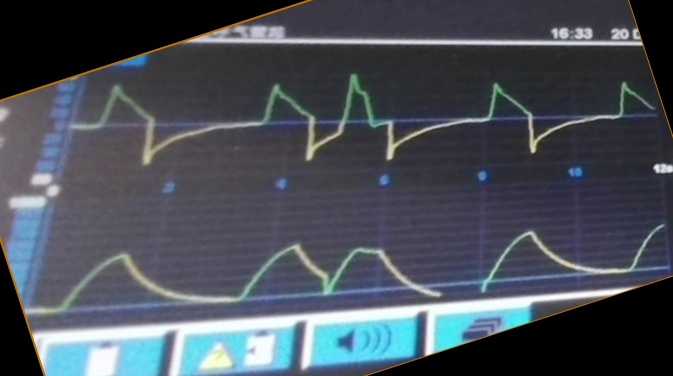Double_Triggering Flow: (94, 72, 651, 162)
Double_Triggering Volume: (68, 221, 663, 301)
